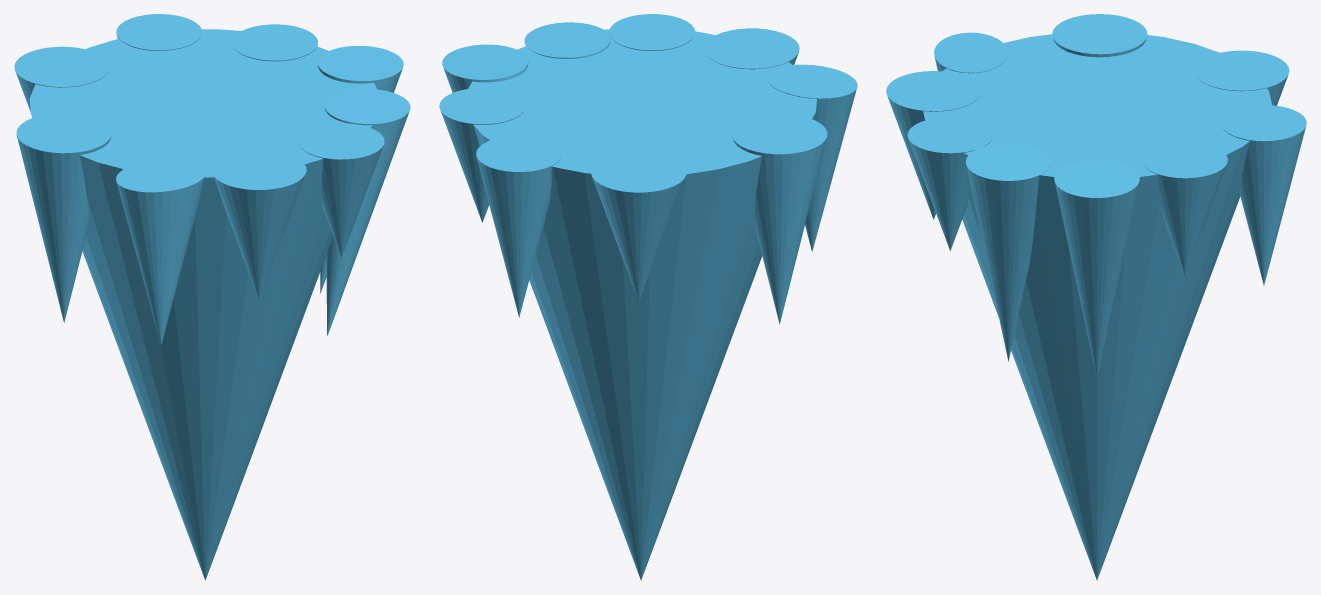
The model's file is crystals.fbx.
3 views of the same model, side by side, from view 1: azimuth 30°, elevation 25°; view 2: azimuth 150°, elevation 25°; view 3: azimuth 270°, elevation 25° (orthographic).
Parts seen in each view (by area): view 1: Cone, Cone.008, Cone.009, Cone.001, Cone.007, Cone.002, Cone.004, Cone.006, Cone.003, Cone.005; view 2: Cone, Cone.008, Cone.005, Cone.004, Cone.009, Cone.003, Cone.001, Cone.006, Cone.002, Cone.007; view 3: Cone, Cone.006, Cone.007, Cone.005, Cone.003, Cone.002, Cone.001, Cone.004, Cone.008, Cone.009.
Part boxes in pixels (left/top/right/bottom): Cone: left=29, top=29, right=376, bottom=580; Cone.008: left=16, top=113, right=111, bottom=322; Cone.009: left=116, top=158, right=206, bottom=345; Cone.001: left=211, top=149, right=306, bottom=298; Cone.007: left=324, top=88, right=410, bottom=335; Cone.002: left=298, top=123, right=384, bottom=257; Cone.004: left=14, top=46, right=109, bottom=111; Cone.006: left=318, top=46, right=403, bottom=293; Cone.003: left=232, top=24, right=317, bottom=61; Cone.005: left=116, top=14, right=202, bottom=50; Cone: left=468, top=29, right=816, bottom=580; Cone.008: left=732, top=114, right=827, bottom=324; Cone.005: left=476, top=135, right=562, bottom=317; Cone.004: left=591, top=152, right=686, bottom=301; Cone.009: left=766, top=64, right=857, bottom=251; Cone.003: left=439, top=88, right=525, bottom=222; Cone.001: left=704, top=28, right=799, bottom=69; Cone.006: left=442, top=44, right=528, bottom=92; Cone.002: left=609, top=14, right=695, bottom=50; Cone.007: left=524, top=22, right=610, bottom=58; Cone: left=923, top=34, right=1271, bottom=580; Cone.006: left=1054, top=160, right=1139, bottom=378; Cone.007: left=965, top=143, right=1051, bottom=361; Cone.005: left=1221, top=105, right=1306, bottom=285; Cone.003: left=1142, top=142, right=1227, bottom=275; Cone.002: left=907, top=117, right=992, bottom=250; Cone.001: left=886, top=71, right=981, bottom=219; Cone.004: left=1194, top=50, right=1289, bottom=105; Cone.008: left=1052, top=14, right=1147, bottom=57; Cone.009: left=934, top=32, right=1007, bottom=73.
Bounding box in the file's own units: 164 × 201 × 160.
